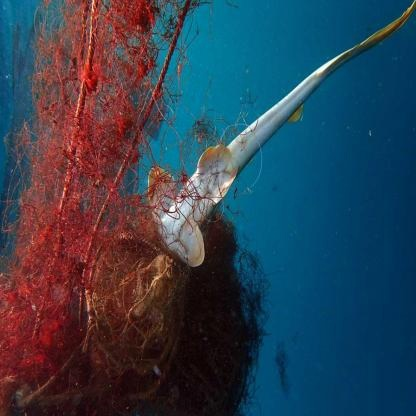net: (0, 4, 179, 416)
